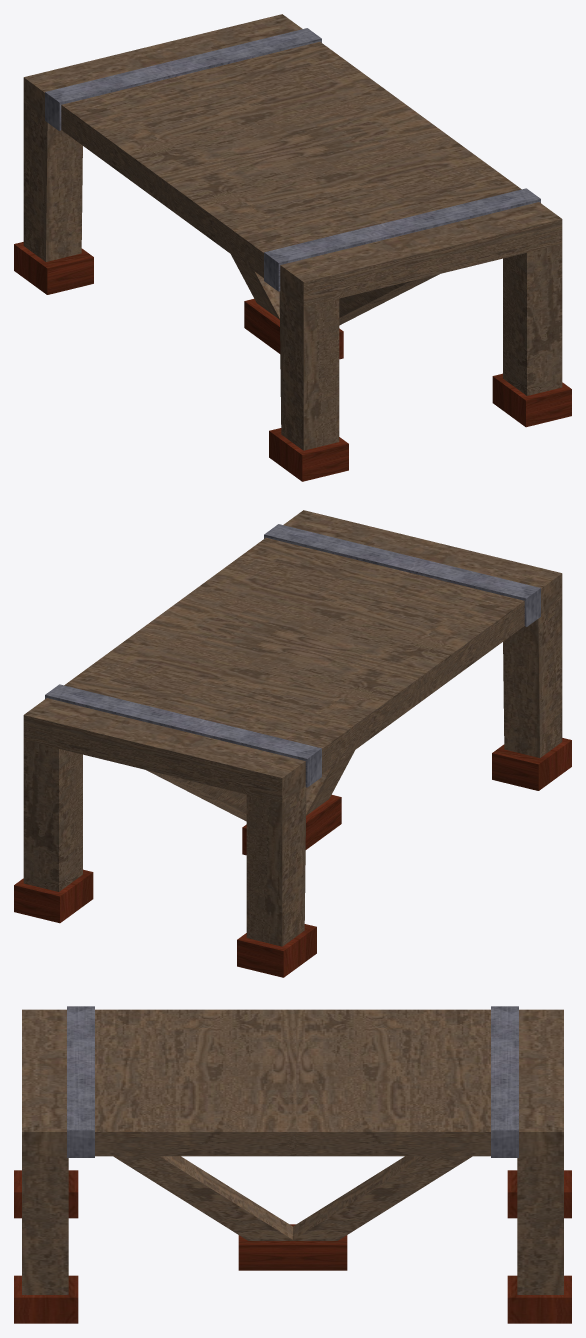
The model's file is TableSquare.fbx.
3 renders of one model, top to bottom at view 1: azimuth 30°, elevation 25°; view 2: azimuth 150°, elevation 25°; view 3: azimuth 270°, elevation 25°, orthographic. The views are drawn at different scales.
Parts seen in each view (by area): view 1: Cube; view 2: Cube; view 3: Cube.
Boxes of the visible parts, x1,y1,x2,y2 form: Cube: (14,14,571,481); Cube: (14,510,571,977); Cube: (14,1006,571,1323).
Bounding box in the file's own units: 717 × 503 × 1329.
3 materials, 3 textured.
